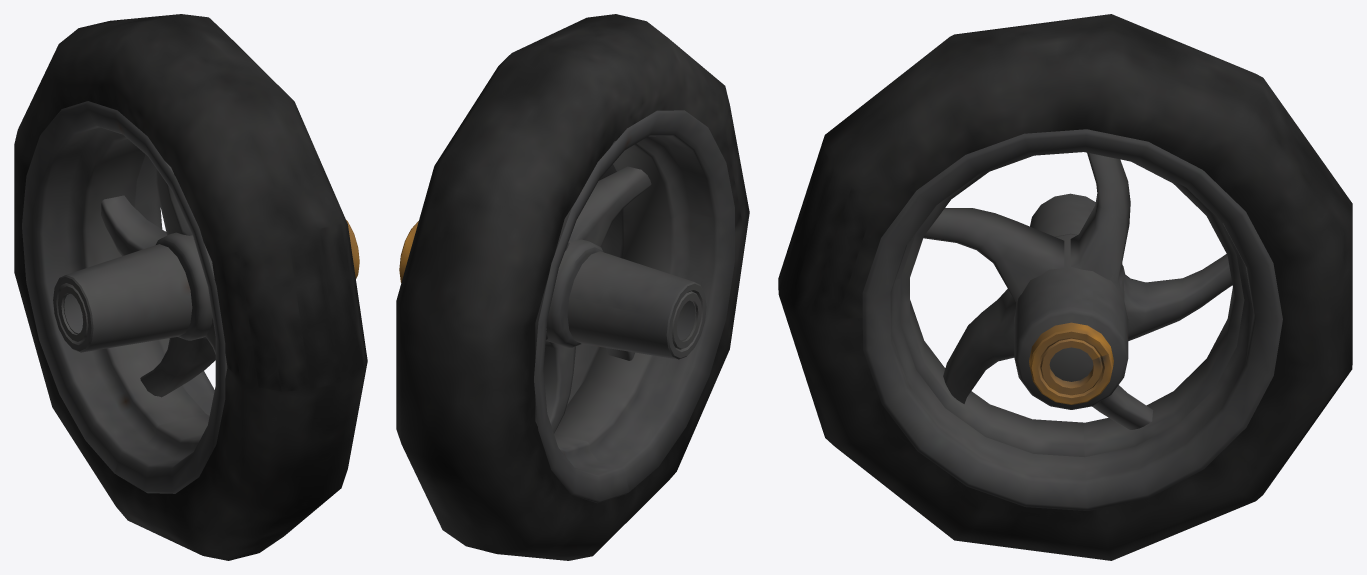
File: G_TokTok_FW.FBX
The picture shows the model from 3 angles, left to right: view 1: azimuth 30°, elevation 25°; view 2: azimuth 150°, elevation 25°; view 3: azimuth 270°, elevation 25°; orthographic projection. The views are drawn at different scales.
Visible parts, largest first — view 1: Front_Wheel; view 2: Front_Wheel; view 3: Front_Wheel.
Boxes of the visible parts, <box> form: Front_Wheel: <box>14,14,367,560</box>; Front_Wheel: <box>396,14,749,560</box>; Front_Wheel: <box>778,14,1352,560</box>.
Bounding box in the file's own units: 12.41 × 22.16 × 21.94.
Materials: 1 (1 with a texture image).
